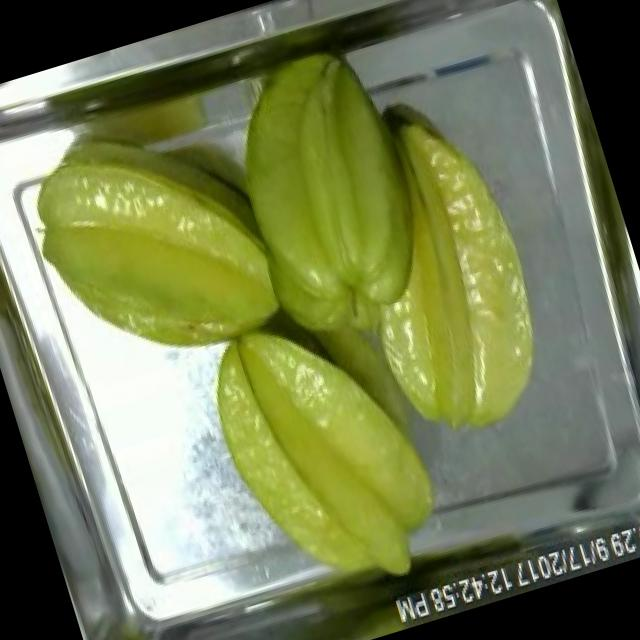fruit: (186, 1, 511, 360), (304, 72, 582, 462), (183, 277, 470, 624), (10, 100, 300, 392)
